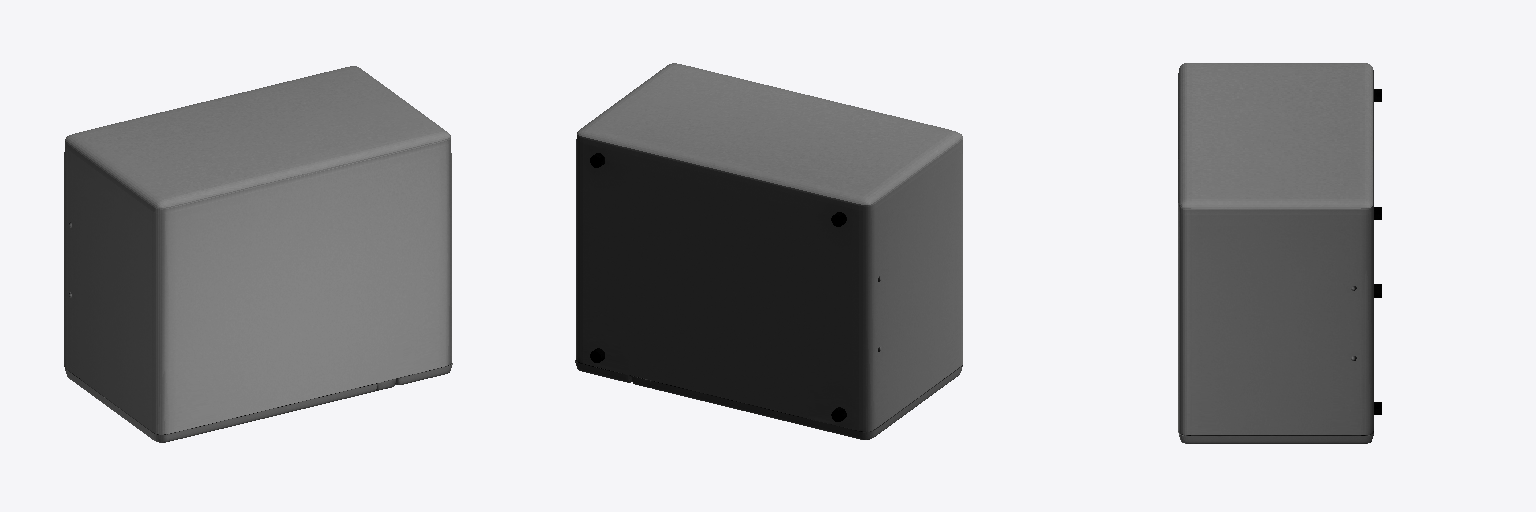
3 views of the same model, side by side, from view 1: azimuth 30°, elevation 25°; view 2: azimuth 150°, elevation 25°; view 3: azimuth 270°, elevation 25° (orthographic).
Parts seen in each view (by area): view 1: 10122_Microwave_Oven_v1_SG; view 2: 10122_Microwave_Oven_v1_SG; view 3: 10122_Microwave_Oven_v1_SG.
Part boxes in pixels (bbox=[...]): 10122_Microwave_Oven_v1_SG: bbox=[64, 66, 452, 442]; 10122_Microwave_Oven_v1_SG: bbox=[575, 63, 962, 439]; 10122_Microwave_Oven_v1_SG: bbox=[1178, 63, 1381, 443].
Bounding box in the file's own units: 46.36 × 36.97 × 27.39.
1 materials, 1 textured.